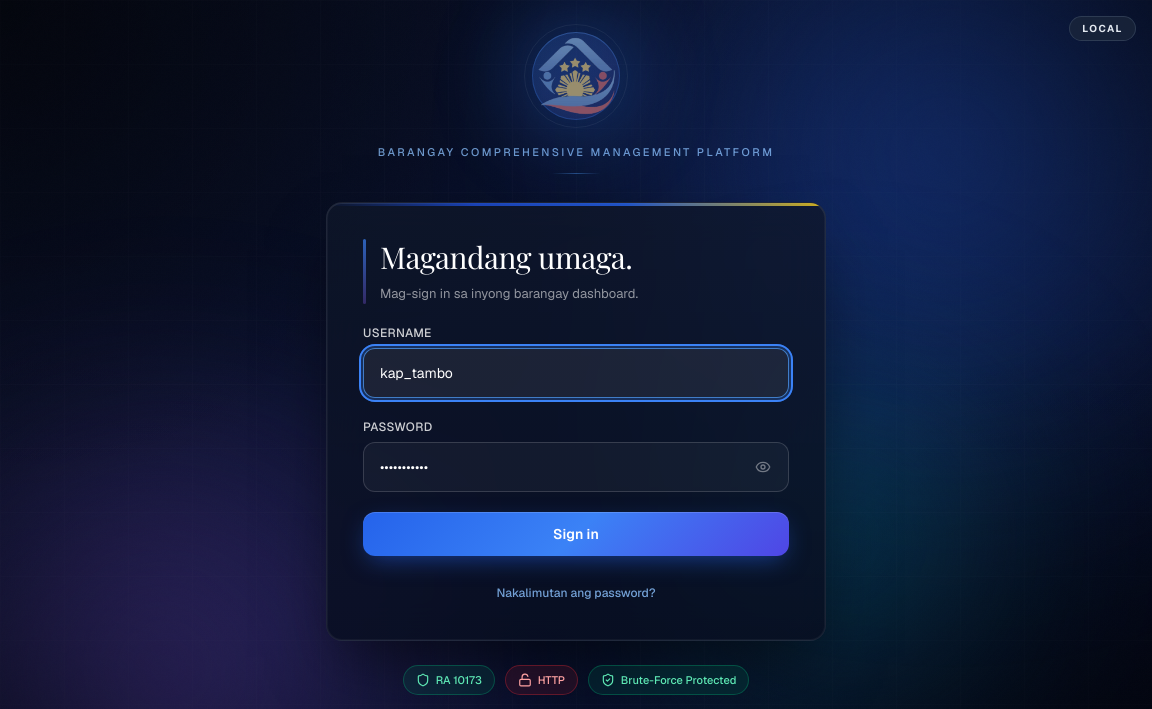
Test: LoginPage (root route /) › password visibility toggle › toggles password field to text type when show button is clicked
Click the button named "Show password" at (763, 466), box [749,452,777,480]
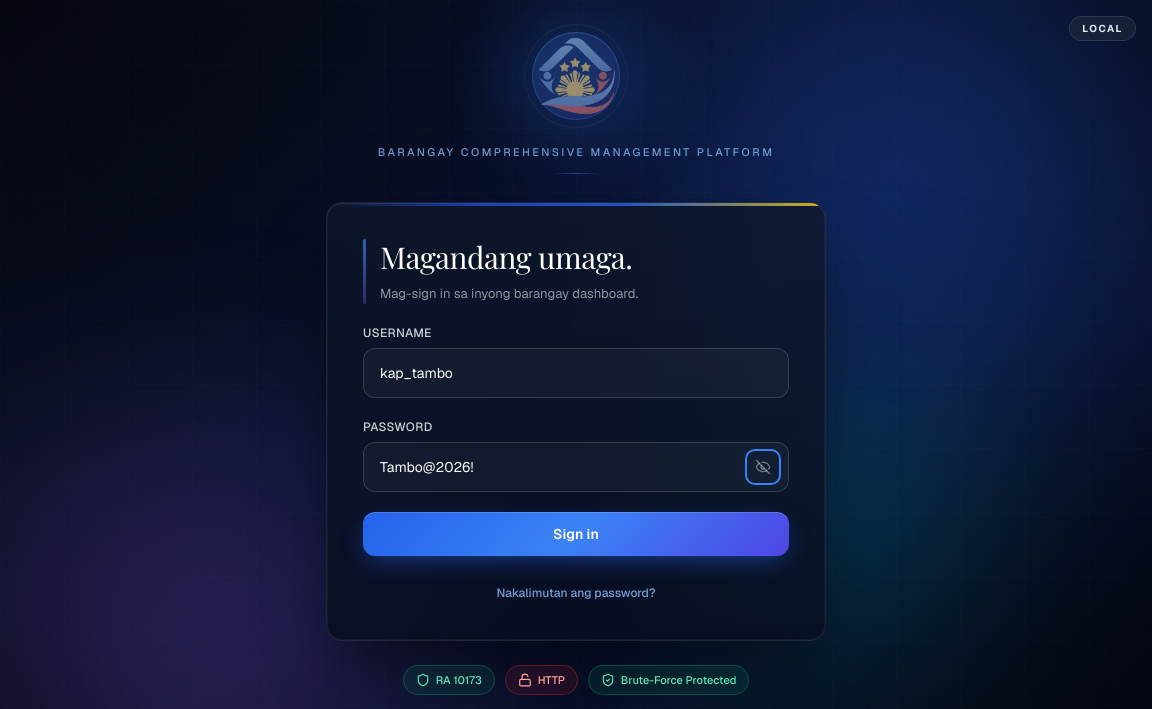
Expected: the field with placeholder "Enter your password" shows its text, [363,442,789,492]
